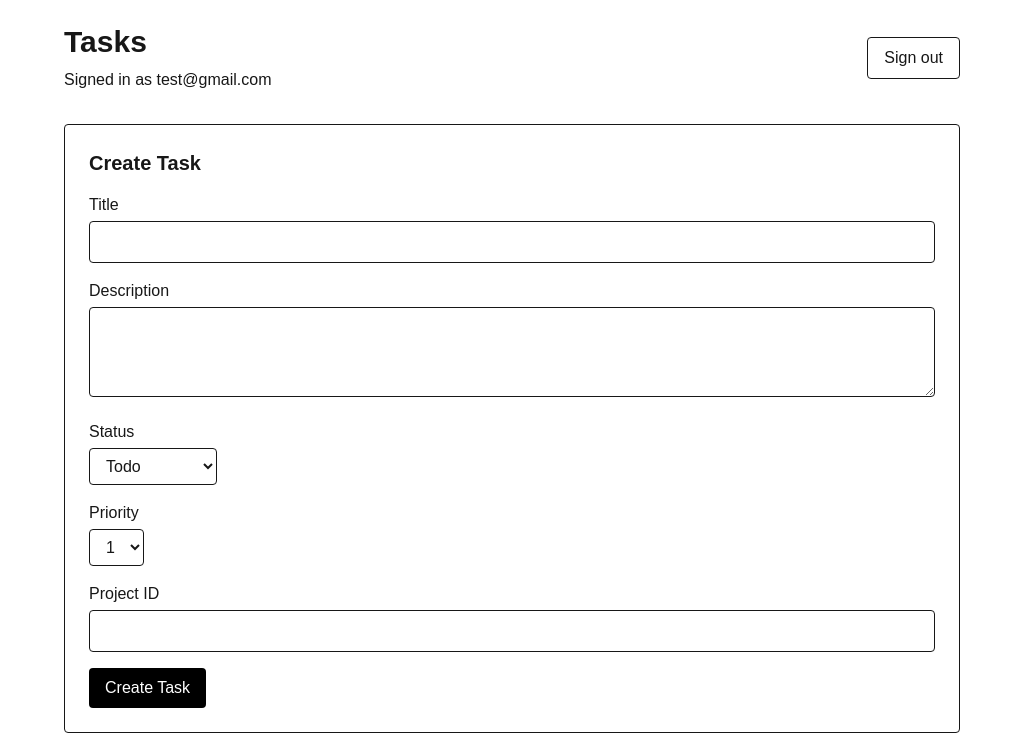
TasksPage mutations › renders the API field error and keeps the entered values on a 400 response
The width and height of the screenshot is (1024, 735).
In the field labelled "Title": point(512, 242) [89,221,935,263], type "Valid Title"
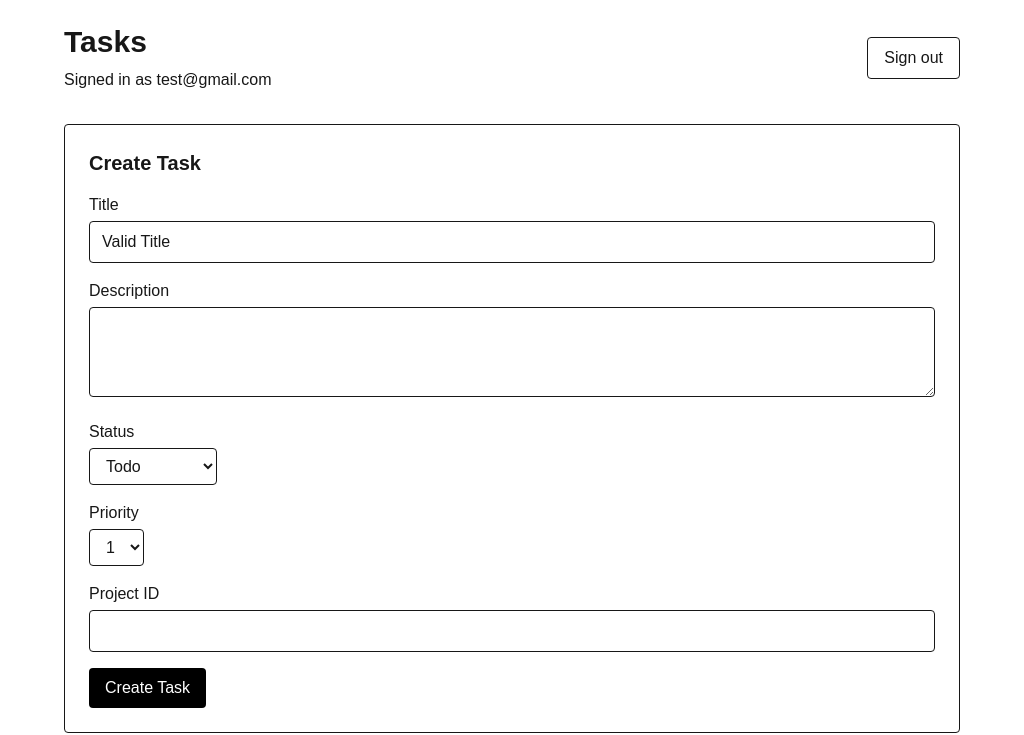
In the number field labelled "Project ID": point(512, 631) [89,610,935,652], type "1"
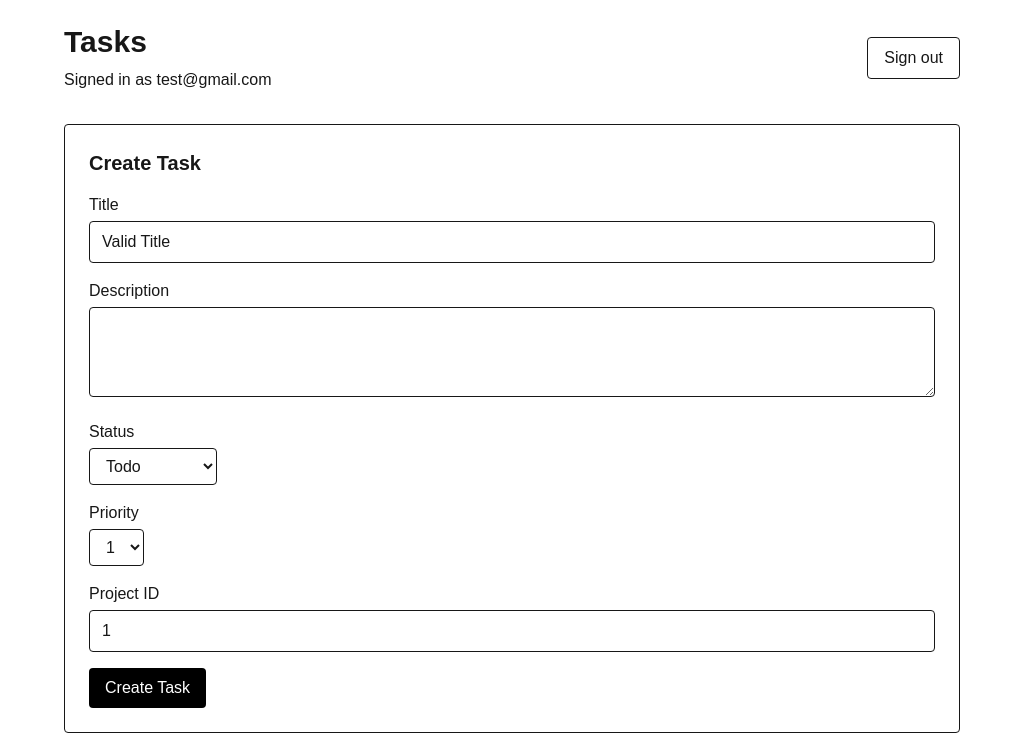
Note: Submit the form
Click the button "Create Task": point(148, 688) [89,668,206,708]
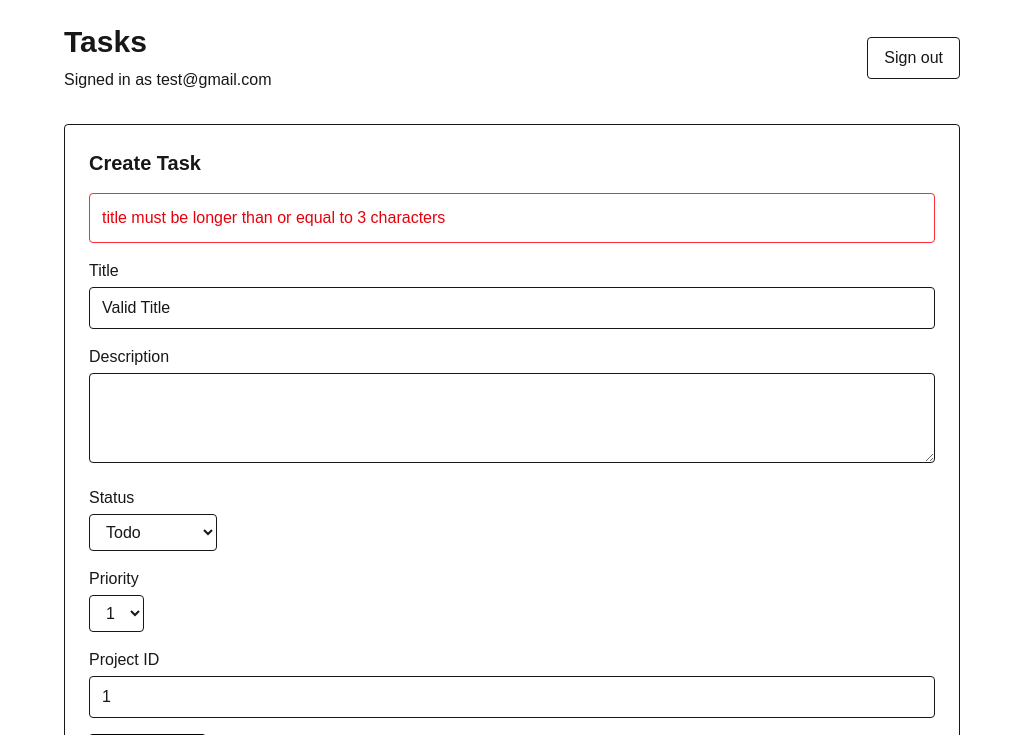
Expected: the text "title must be longer than or equal to 3 characters" is shown, [89,193,935,243]
